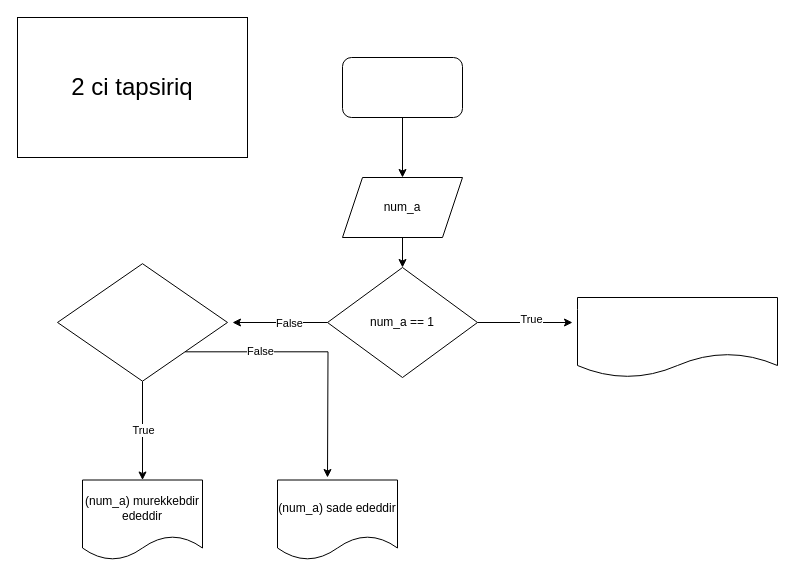
Some shapes in this 795 by 578 pixel diagram are drawn without their labels. The box of each missing label's shape, as (x1, y1, x2, y2) in pixels:
num_a == 2 || num_a == 3: (56, 263, 228, 381)
num_a bu sade ve murekkebdir: (576, 296, 778, 378)
Start: (342, 56, 462, 118)
